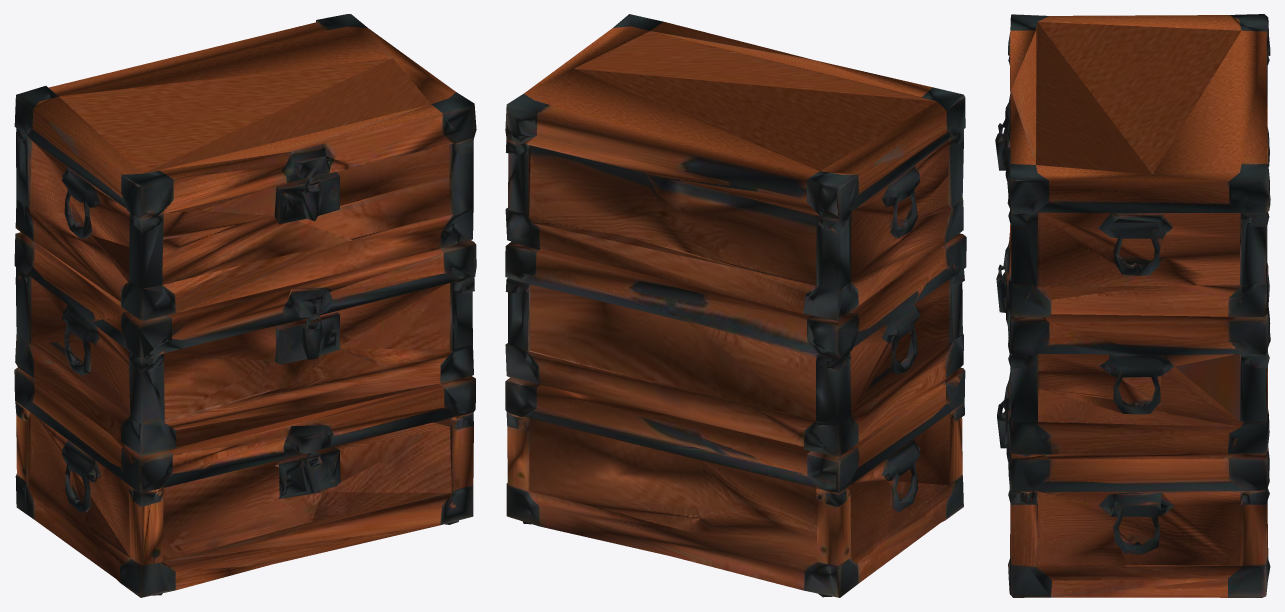
File: strongboxes.glb
The picture shows the model from 3 angles, left to right: view 1: azimuth 30°, elevation 25°; view 2: azimuth 150°, elevation 25°; view 3: azimuth 270°, elevation 25°; orthographic projection.
Visible parts, largest first — view 1: strongboxes; view 2: strongboxes; view 3: strongboxes.
Boxes of the visible parts, bbox=[...] form: strongboxes: bbox=[14, 14, 476, 597]; strongboxes: bbox=[505, 14, 966, 597]; strongboxes: bbox=[995, 14, 1270, 597].
Bounding box in the file's own units: 1.12 × 1.3 × 0.7649.
1 material, 1 textured.
